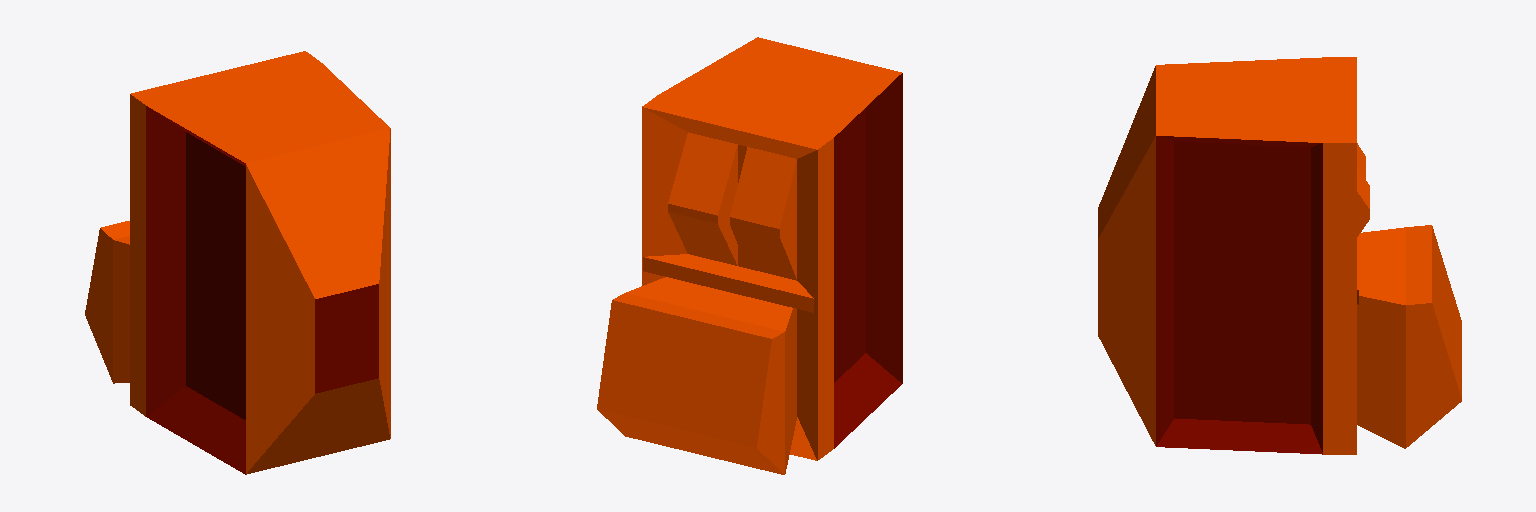
Rendered from Machine.obj.
The picture shows the model from 3 angles: view 1: azimuth 30°, elevation 25°; view 2: azimuth 150°, elevation 25°; view 3: azimuth 270°, elevation 25°; orthographic projection.
Visible parts, largest first — view 1: pCube1; view 2: pCube1; view 3: pCube1.
Part boxes in pixels (x1,y1,x2,y2): pCube1: (85, 51, 390, 474); pCube1: (597, 37, 902, 474); pCube1: (1098, 57, 1461, 454).
Bounding box in the file's own units: 5.08 × 8.6 × 9.13.